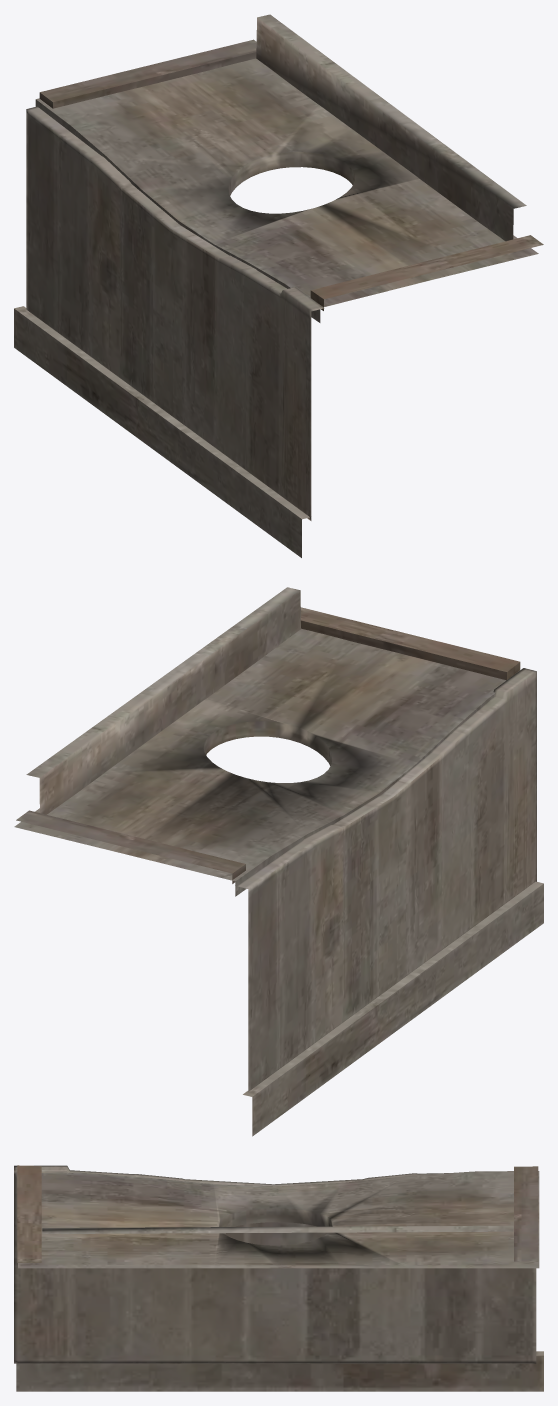
The model's file is toilet.glb.
3 views of the same model, one above another, from view 1: azimuth 30°, elevation 25°; view 2: azimuth 150°, elevation 25°; view 3: azimuth 270°, elevation 25° (orthographic). The views are drawn at different scales.
Parts seen in each view (by area): view 1: SM_Outhouse_01a.001; view 2: SM_Outhouse_01a.001; view 3: SM_Outhouse_01a.001.
Part boxes in pixels (x1,y1,x2,y2): SM_Outhouse_01a.001: (14,14,543,557); SM_Outhouse_01a.001: (14,587,543,1136); SM_Outhouse_01a.001: (14,1165,543,1391).
Bounding box in the file's own units: 0.5517 × 0.6239 × 1.14.
Materials: 3 (3 with a texture image).
